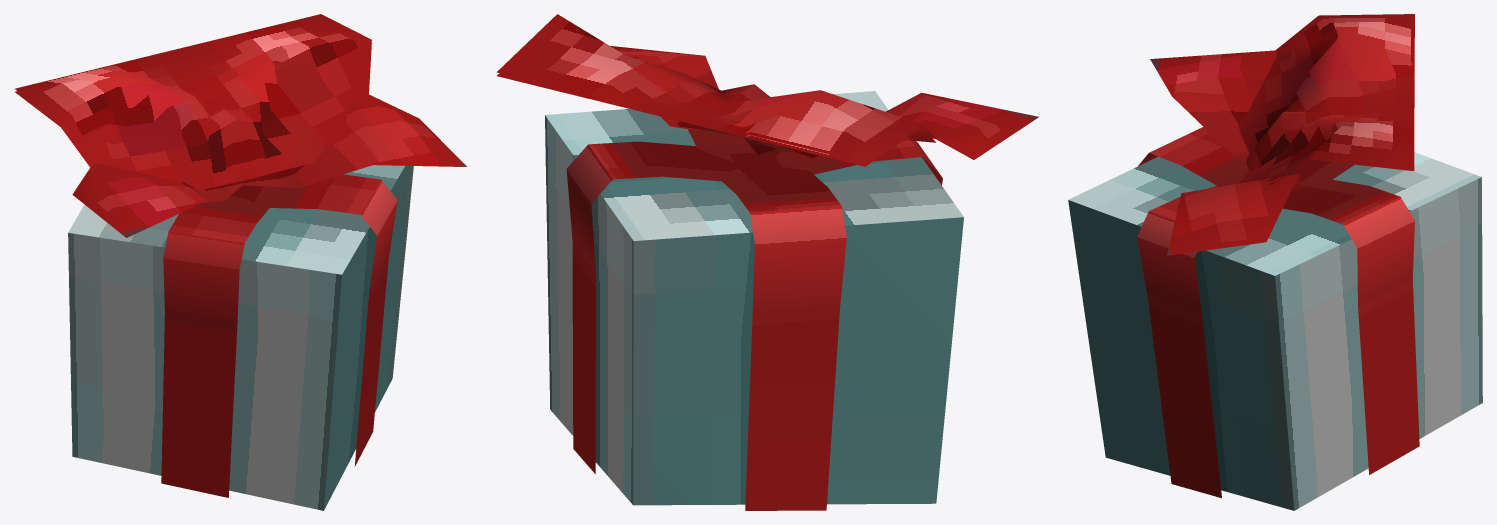
3 views of the same model, side by side, from view 1: azimuth 30°, elevation 25°; view 2: azimuth 150°, elevation 25°; view 3: azimuth 270°, elevation 25° (orthographic). The views are drawn at different scales.
Parts seen in each view (by area): view 1: vsn_mesh_0__mesh_0_; view 2: vsn_mesh_0__mesh_0_; view 3: vsn_mesh_0__mesh_0_.
Part boxes in pixels (box(x1,y1,x2,y2)): vsn_mesh_0__mesh_0_: box(15, 14, 466, 510); vsn_mesh_0__mesh_0_: box(497, 14, 1038, 510); vsn_mesh_0__mesh_0_: box(1068, 14, 1482, 510).
Size of the model in its own units: 14.14 by 14.28 by 14.06.
1 material, 1 textured.
